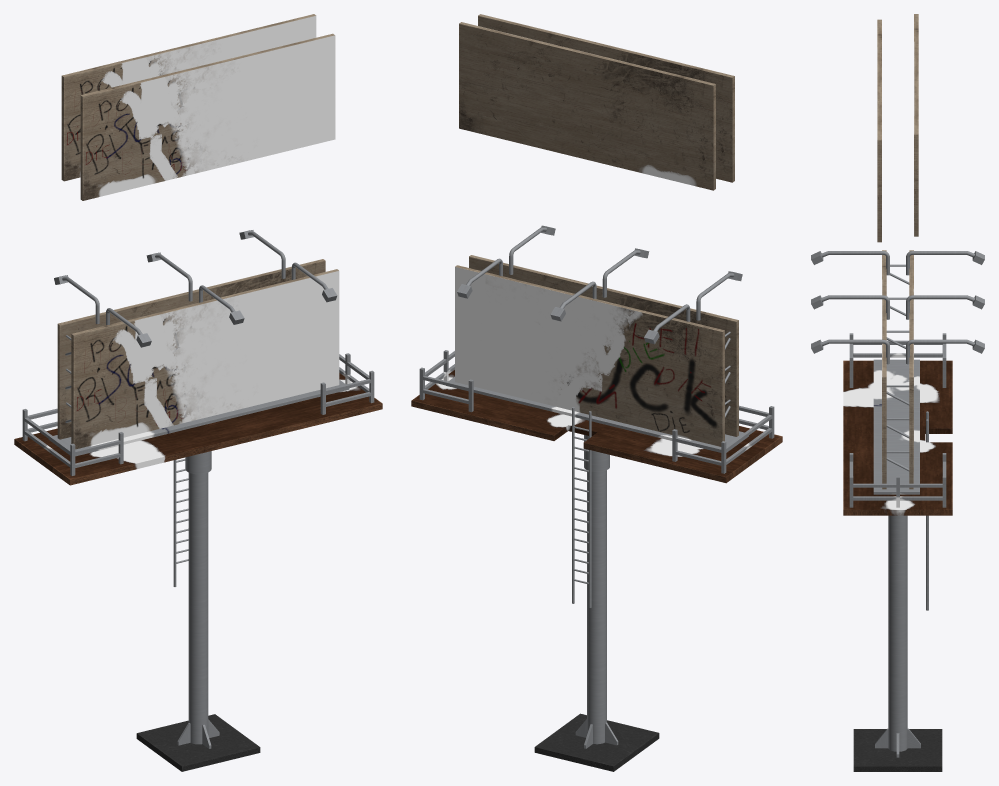
3 views of the same model, side by side, from view 1: azimuth 30°, elevation 25°; view 2: azimuth 150°, elevation 25°; view 3: azimuth 270°, elevation 25° (orthographic). The views are drawn at different scales.
Visible parts, largest first — view 1: shield_low, dayana_morales_texture1, base_low, dayana_morales_texture2, pillar_low, light_support_low, fence_low, fence2_low, stand_low, light_low; view 2: shield_low, dayana_morales_texture2, base_low, pillar_low, dayana_morales_texture1, light_support_low, fence_low, stairs_low, fence2_low, stand_low, light_low; view 3: base_low, pillar_low, light_support_low, shield_low, fence2_low, dayana_morales_texture1, dayana_morales_texture2, stand_low, support2_low, light_low, support_low, stairs_low.
Part boxes in pixels (box(x1,y1,x2,y2)): shield_low: box(57, 259, 339, 449); dayana_morales_texture1: box(80, 33, 335, 200); base_low: box(14, 373, 382, 771); dayana_morales_texture2: box(61, 14, 316, 181); pillar_low: box(185, 451, 211, 744); light_support_low: box(62, 231, 328, 334); fence_low: box(27, 379, 370, 467); fence2_low: box(24, 354, 369, 467); stand_low: box(22, 370, 374, 475); light_low: box(54, 230, 337, 347); shield_low: box(455, 255, 738, 446); dayana_morales_texture2: box(459, 22, 715, 190); base_low: box(411, 370, 782, 771); pillar_low: box(584, 435, 609, 744); dayana_morales_texture1: box(478, 14, 734, 182); light_support_low: box(466, 227, 734, 331); fence_low: box(423, 376, 768, 465); stairs_low: box(572, 407, 591, 607); fence2_low: box(425, 351, 772, 464); stand_low: box(419, 367, 774, 473); light_low: box(457, 225, 742, 344); base_low: box(843, 359, 952, 771); pillar_low: box(888, 515, 907, 751); light_support_low: box(821, 251, 974, 364); shield_low: box(882, 250, 913, 489); fence2_low: box(853, 340, 942, 500); dayana_morales_texture1: box(877, 19, 881, 242); dayana_morales_texture2: box(914, 14, 918, 236); stand_low: box(849, 333, 946, 507); support2_low: box(886, 264, 909, 471); light_low: box(811, 251, 984, 353); support_low: box(875, 728, 920, 757); stairs_low: box(926, 411, 928, 610).
Size of the model in its own units: 11.28 by 23.92 by 5.56.
Materials: 2 (2 with a texture image).
